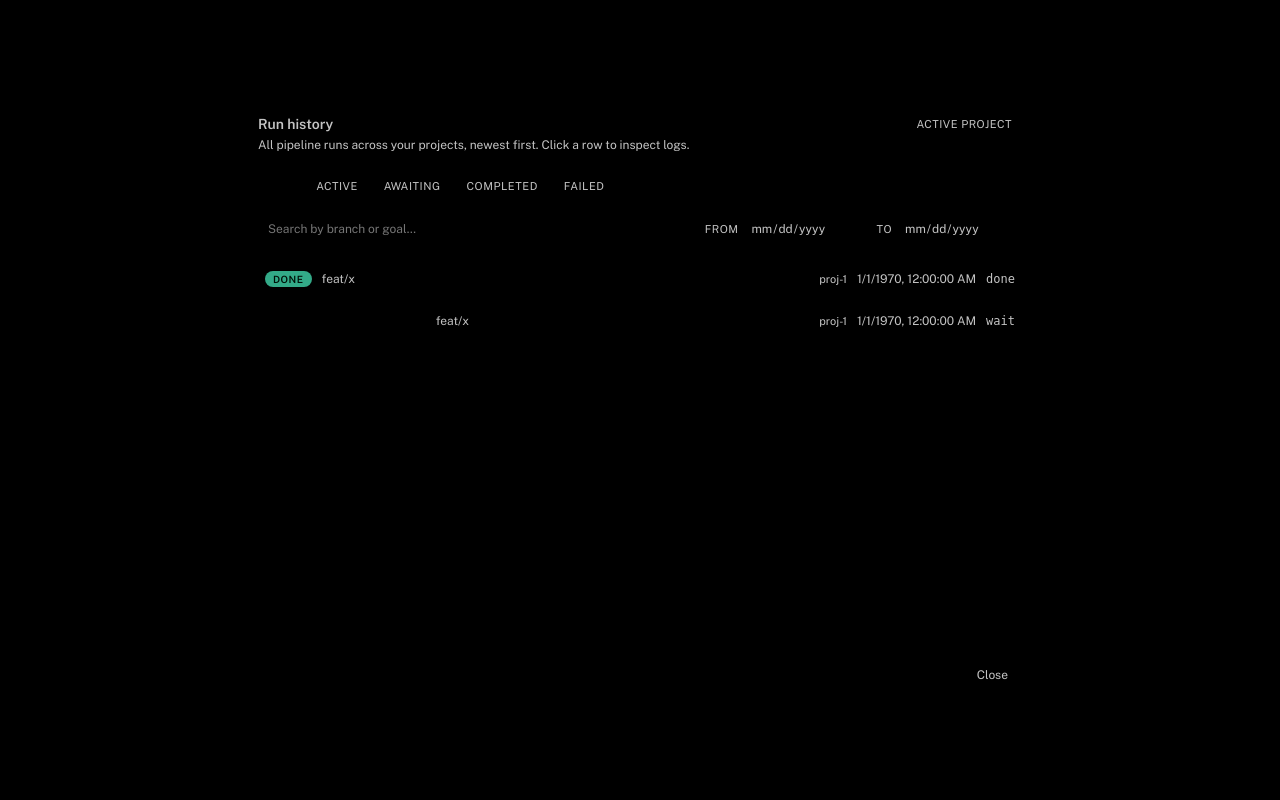
RunHistoryPanel › clicking the All chip clears any existing filter
Step 1. Click the button with test id "run-history-filter-awaiting" → (412,186), box [374,176,450,196]
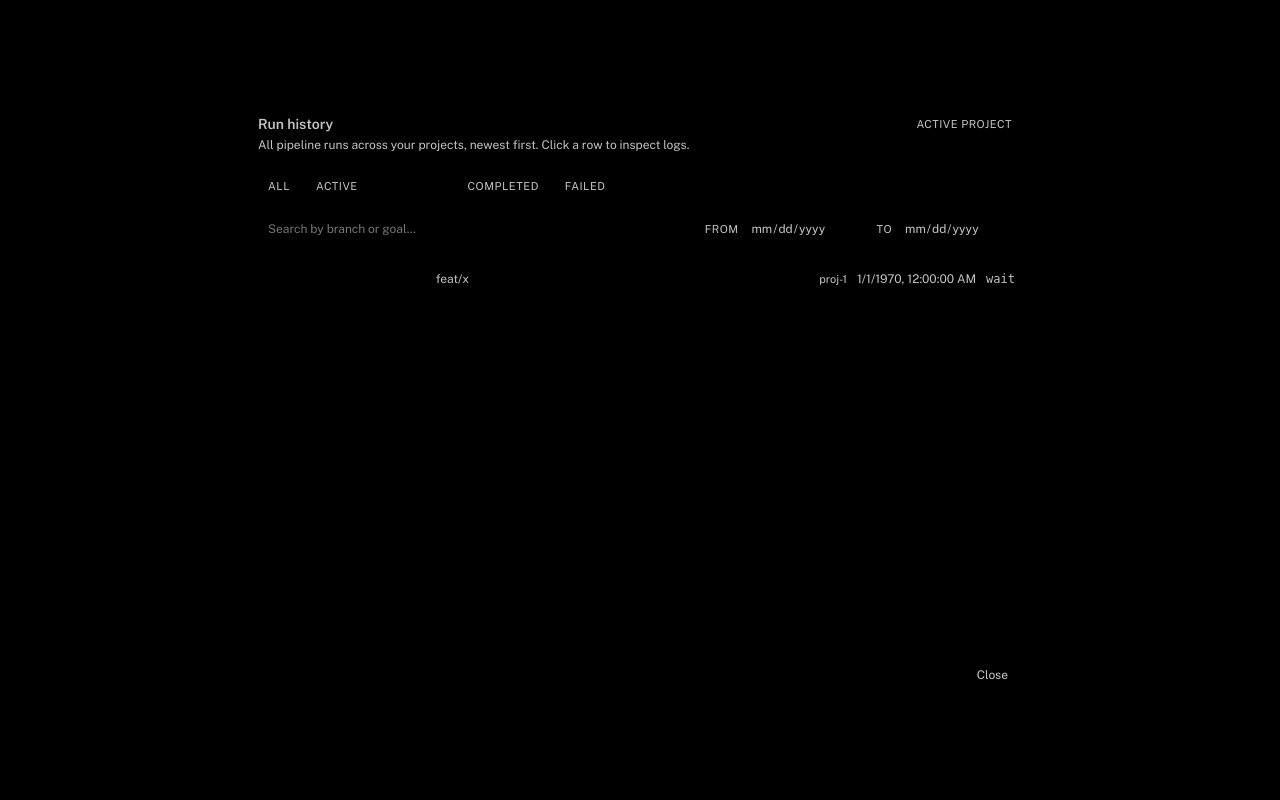
Check: the number of buttons with test id "run-history-row" is 1, box [252,260,1028,298]
Step 2. Click the button with test id "run-history-filter-all" → (279,186), box [258,176,300,196]
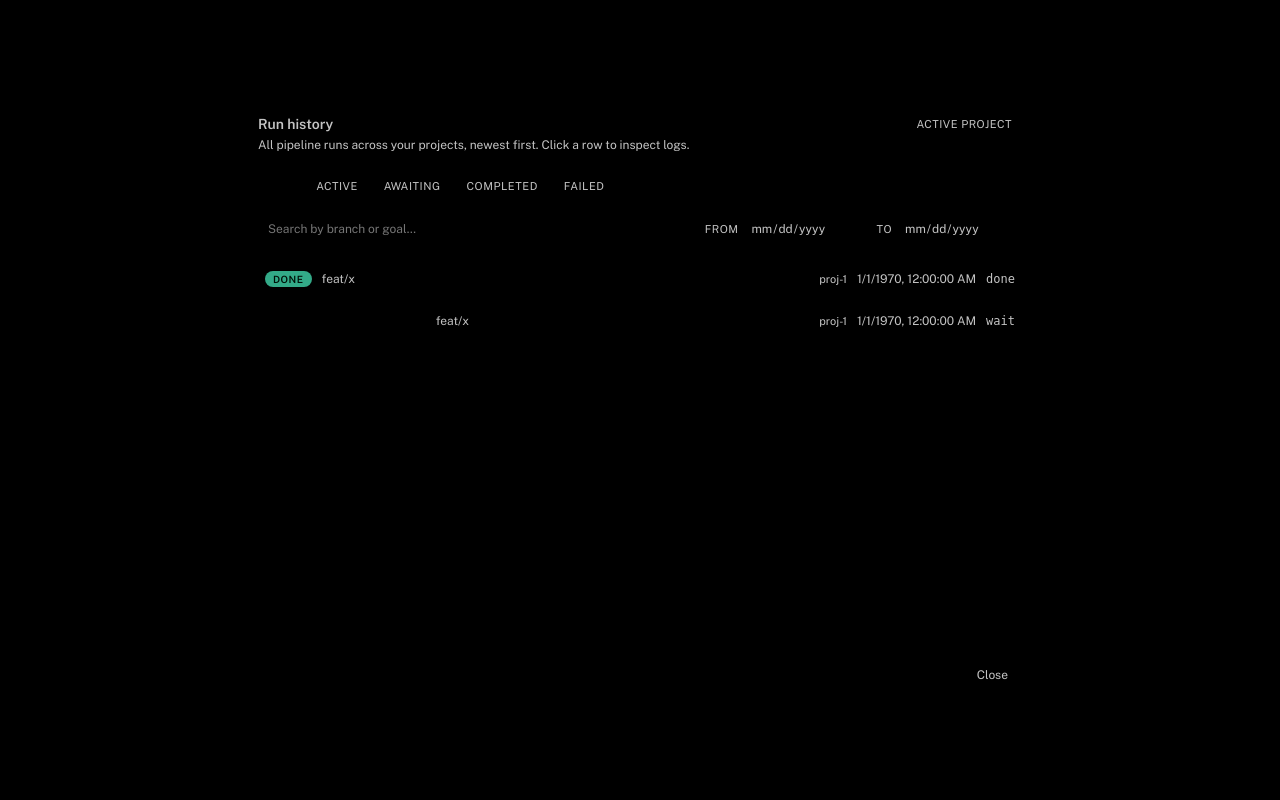
Check: the number of buttons with test id "run-history-row" is 2, box [252,260,1028,298]; [252,302,1028,340]
